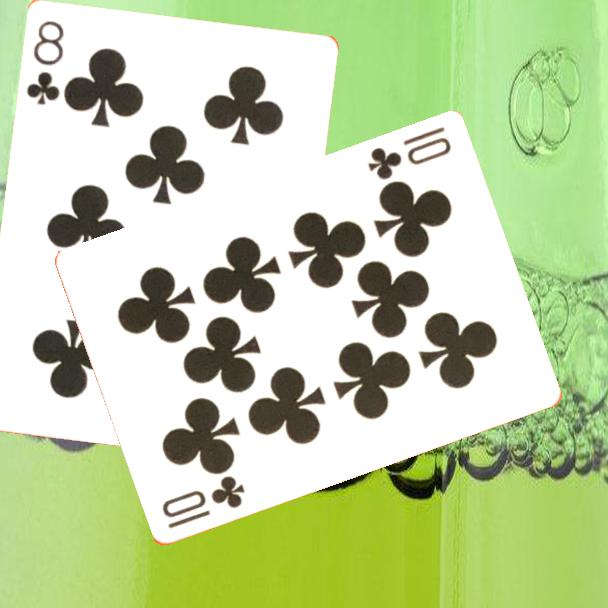c08: (22, 16, 67, 108)
c10: (364, 123, 454, 184), (158, 473, 248, 532)
